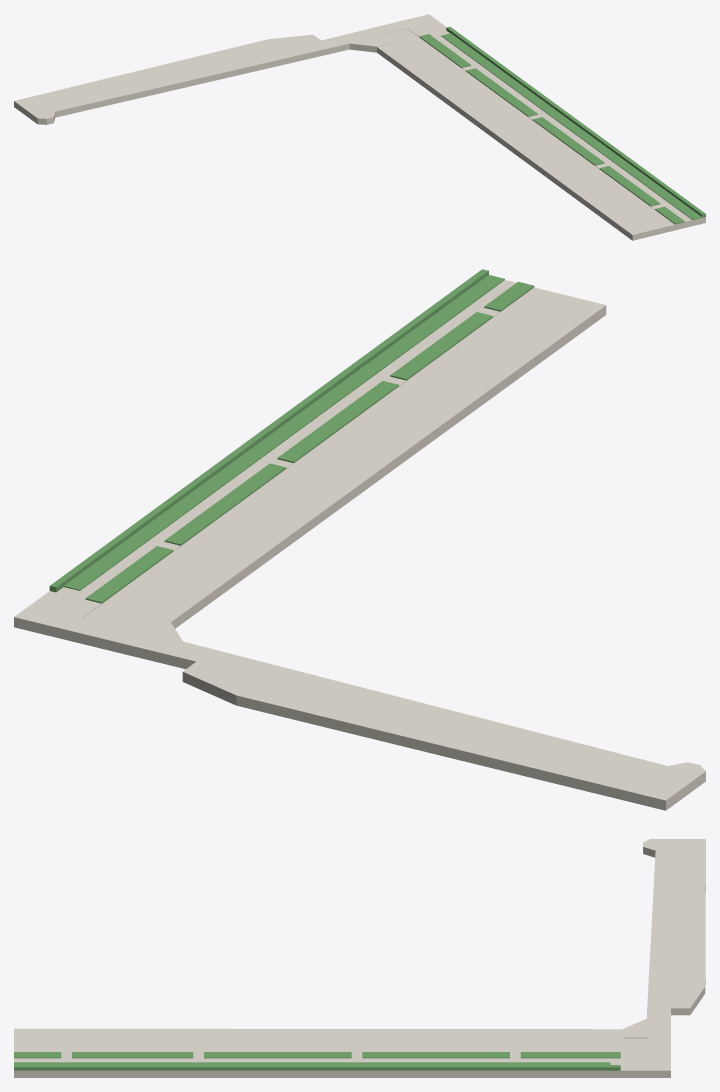
Rendered from SM_Blockout_Passeggiata_Pav_v2.fbx.
The picture shows the model from 3 angles, top to bottom: view 1: azimuth 30°, elevation 25°; view 2: azimuth 150°, elevation 25°; view 3: azimuth 270°, elevation 25°; orthographic projection. The views are drawn at different scales.
Parts seen in each view (by area): view 1: SM_Blockout_PassPav_v2_Lastra, SM_Blockout_PassPav_v2_Molo, SM_Blockout_PassPav_v2_Aiuole, SM_Blockout_PassPav_v2_SiepeLimite; view 2: SM_Blockout_PassPav_v2_Lastra, SM_Blockout_PassPav_v2_Molo, SM_Blockout_PassPav_v2_Aiuole, SM_Blockout_PassPav_v2_SiepeLimite; view 3: SM_Blockout_PassPav_v2_Lastra, SM_Blockout_PassPav_v2_Molo, SM_Blockout_PassPav_v2_Aiuole, SM_Blockout_PassPav_v2_SiepeLimite.
Part boxes in pixels (<box>): SM_Blockout_PassPav_v2_Lastra: <box>321,14,705,240</box>; SM_Blockout_PassPav_v2_Molo: <box>14,34,331,124</box>; SM_Blockout_PassPav_v2_Aiuole: <box>419,33,701,224</box>; SM_Blockout_PassPav_v2_SiepeLimite: <box>446,26,705,217</box>; SM_Blockout_PassPav_v2_Lastra: <box>14,280,606,669</box>; SM_Blockout_PassPav_v2_Molo: <box>182,649,705,810</box>; SM_Blockout_PassPav_v2_Aiuole: <box>63,275,534,603</box>; SM_Blockout_PassPav_v2_SiepeLimite: <box>49,269,488,592</box>; SM_Blockout_PassPav_v2_Lastra: <box>14,1008,670,1077</box>; SM_Blockout_PassPav_v2_Molo: <box>643,839,705,1015</box>; SM_Blockout_PassPav_v2_Aiuole: <box>14,1052,620,1064</box>; SM_Blockout_PassPav_v2_SiepeLimite: <box>14,1065,620,1070</box>.
Size of what is drawn, in the model's own units: 20780 by 26230 by 450.
